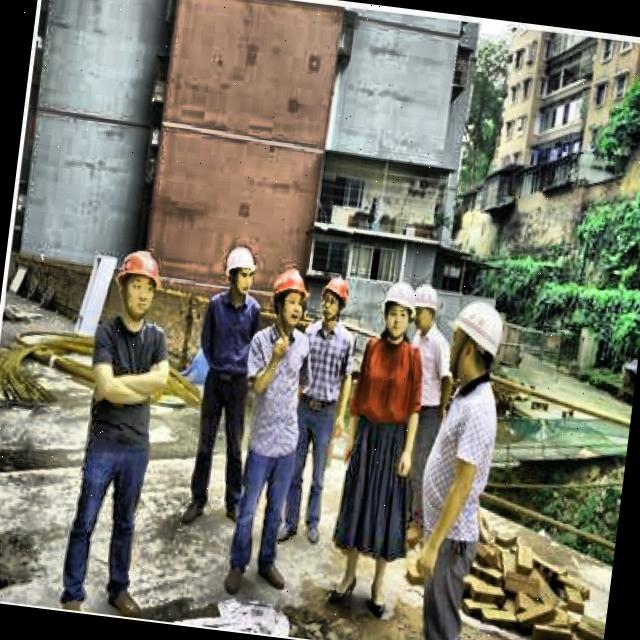helmet: (441, 296, 508, 389), (111, 246, 167, 320), (269, 265, 314, 333), (380, 275, 420, 340), (220, 242, 260, 300), (316, 271, 352, 324), (408, 280, 439, 329)
